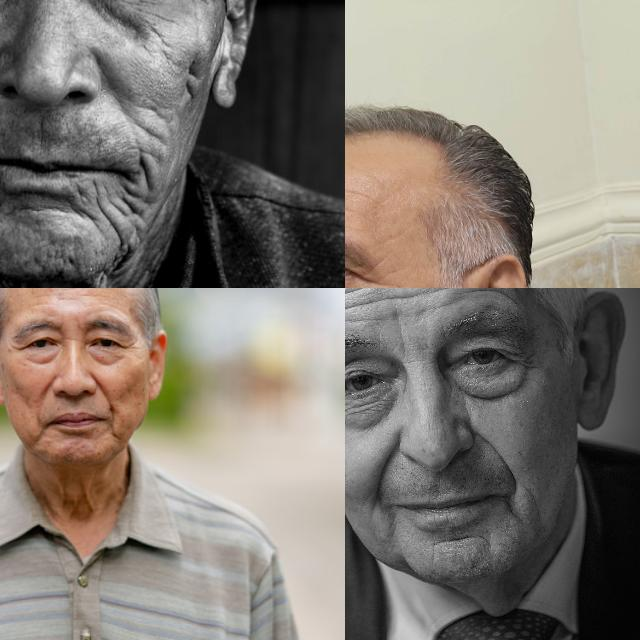chin: (86, 190, 134, 240), (434, 529, 484, 549)
crows_feet: (506, 343, 540, 385), (356, 266, 380, 288), (6, 338, 20, 354), (122, 338, 136, 350)
forehead: (345, 288, 379, 329), (383, 288, 444, 307), (345, 181, 375, 205), (51, 288, 79, 301)
frown_line: (392, 326, 416, 364), (74, 316, 85, 332)
gummy_smile: (483, 431, 521, 481), (374, 441, 402, 494), (84, 370, 110, 400), (36, 376, 54, 398)
masseter: (174, 54, 203, 108)
sad_smile: (132, 145, 158, 207), (106, 417, 118, 438), (34, 420, 46, 440)
smoker_lines: (32, 118, 50, 154)
